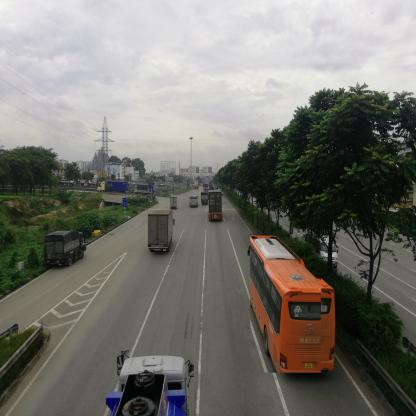bus: (251, 235, 322, 374), (191, 198, 199, 209)
container: (209, 191, 225, 223), (98, 184, 130, 194)
truck: (105, 352, 195, 416), (45, 232, 88, 266), (149, 212, 176, 254), (135, 185, 150, 193), (172, 196, 178, 207), (202, 194, 208, 205)
